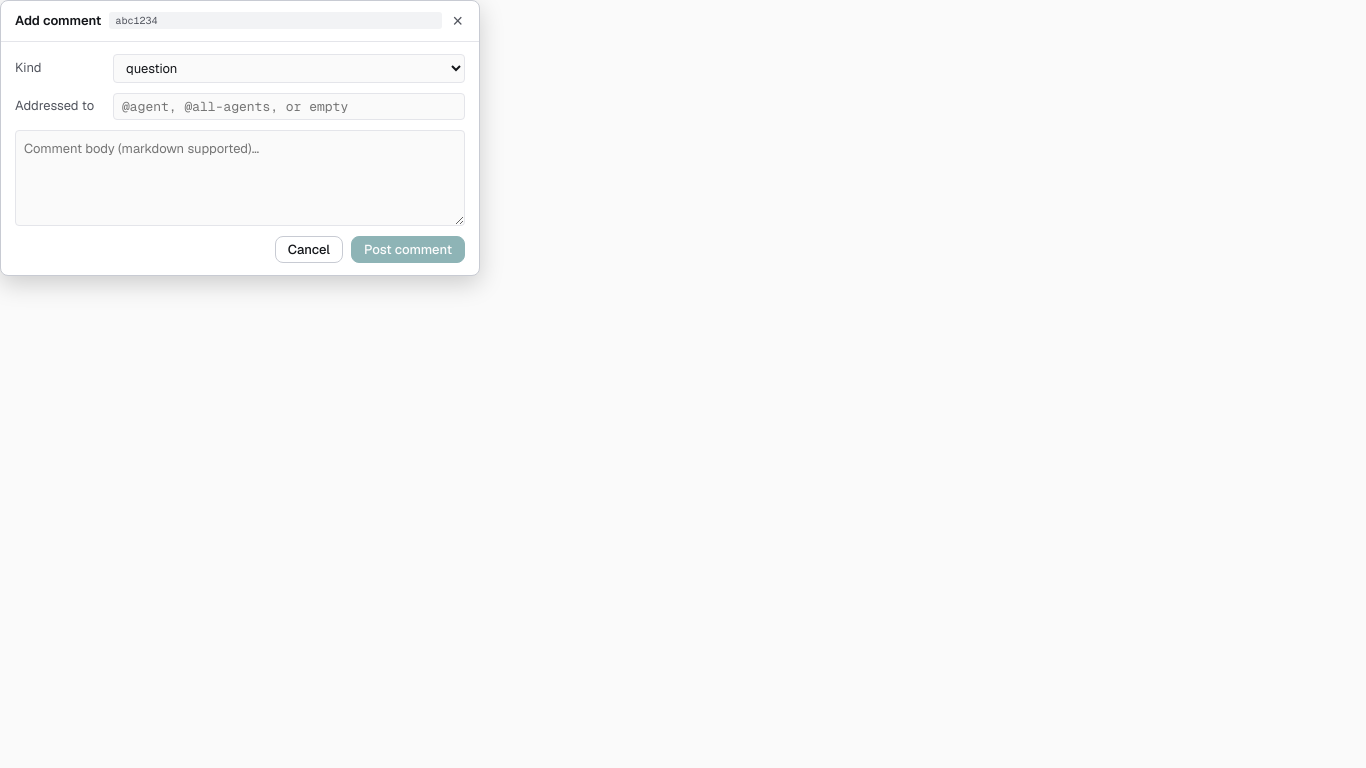
CommentComposer › shows error when POST fails
In the text box labelled "Comment body (markdown supported)…": (240,178) [15,130,465,226], type "hello"
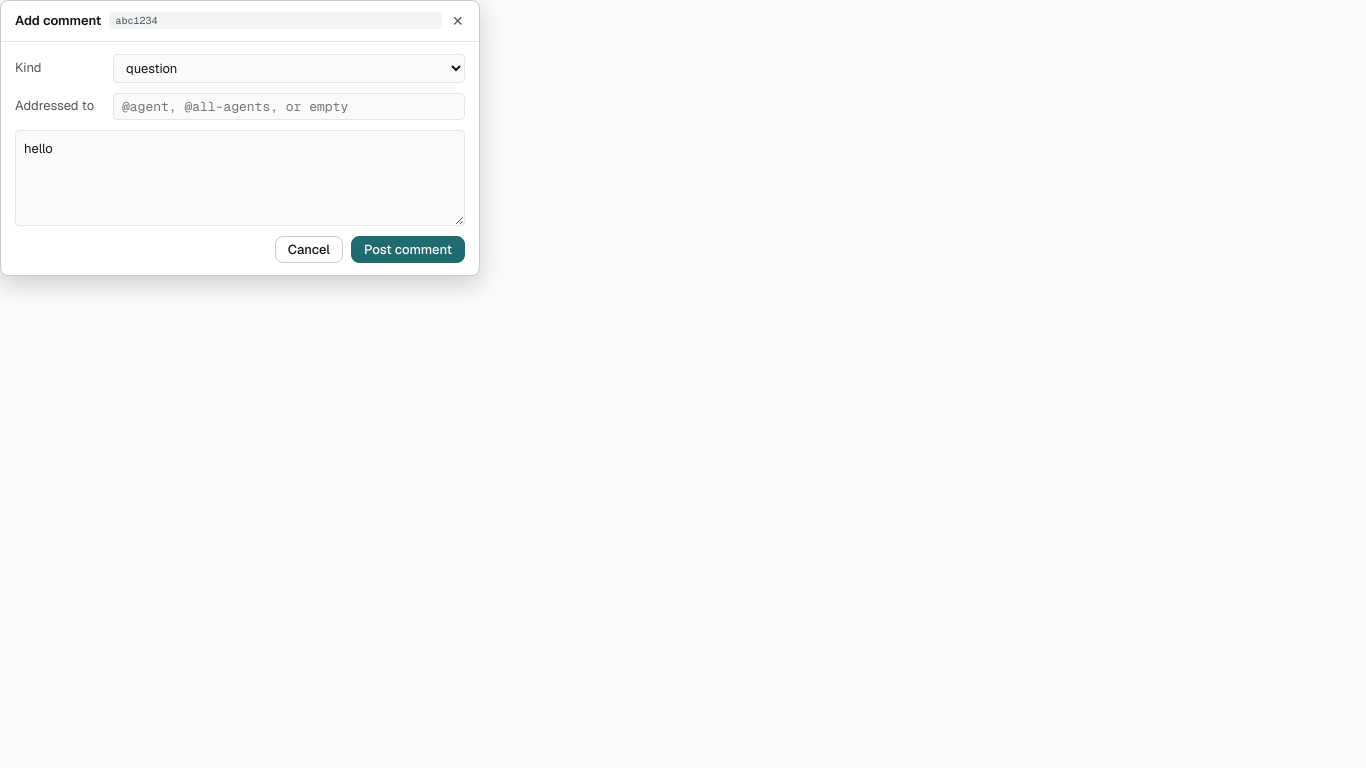
Click the button "Post comment": (408,249) [351,236,465,262]
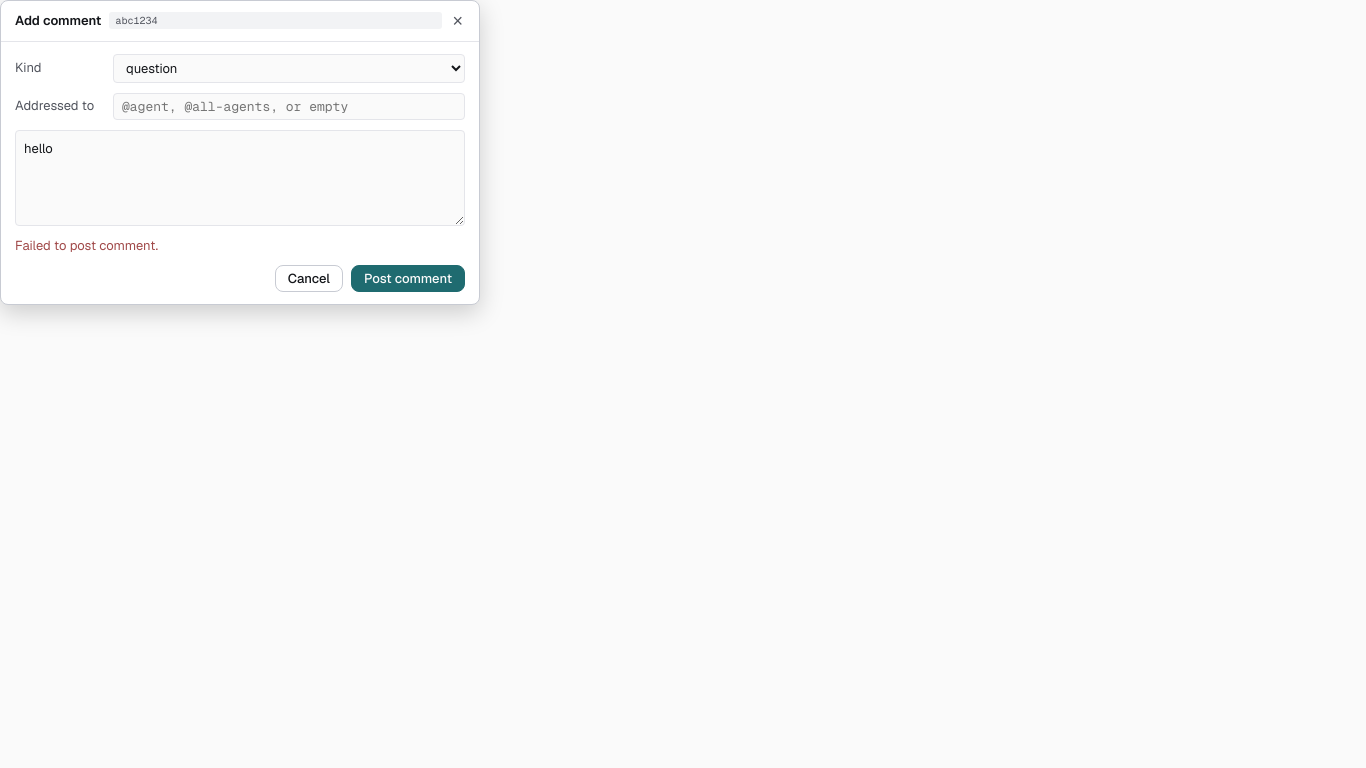
Check: the message shows "Failed to post", box [15,236,158,254]
